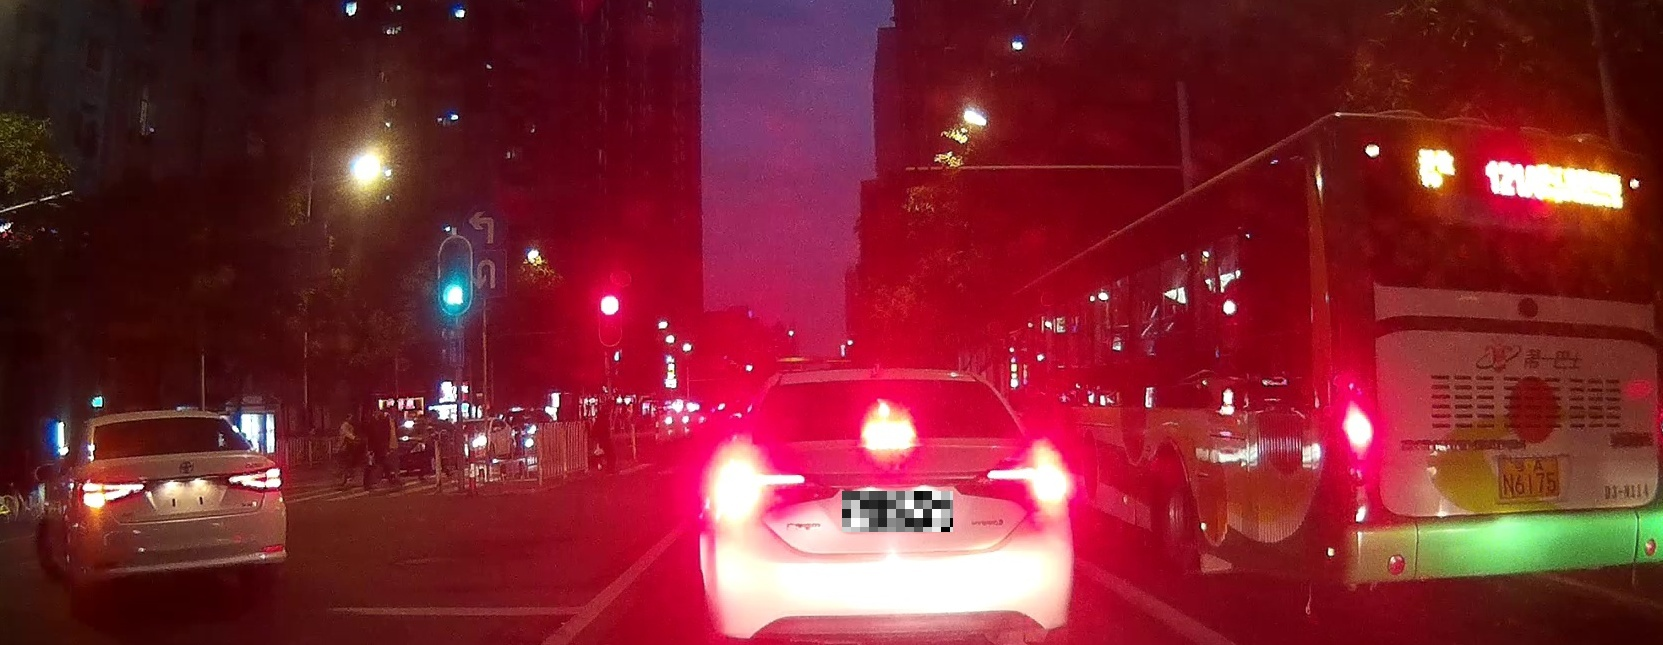L_light: (705, 463, 806, 512), (80, 481, 144, 508)
R_light: (985, 456, 1073, 501), (229, 466, 282, 491)
T_light: (862, 420, 914, 441), (144, 416, 182, 426)
night-brake: (699, 368, 1074, 645)
night-left: (76, 409, 286, 618)
plate_1: (842, 491, 953, 531)
